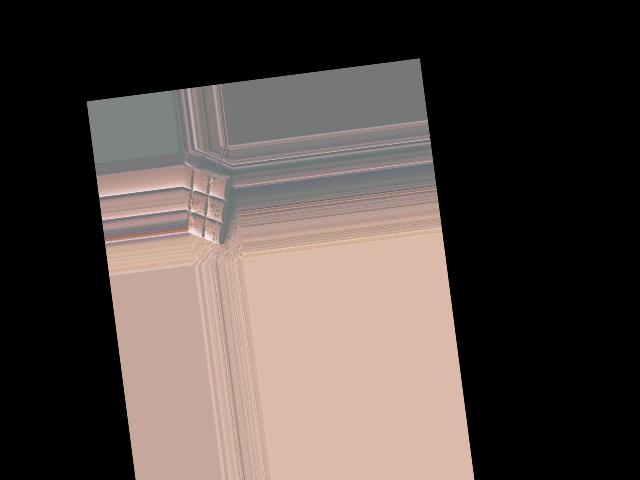chocolate: (180, 158, 238, 252)
